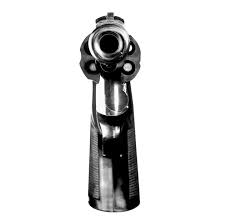gun: (79, 10, 143, 212)
